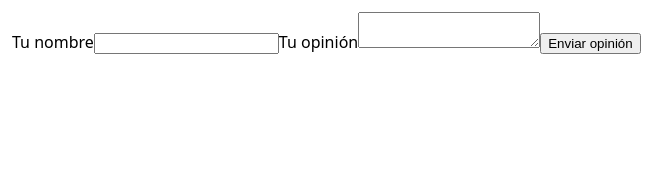
Test: FormularioOpinion › no envia nada si la opinion esta vacia y lo avisa
Click the button "Enviar opinión".
click(590, 44)  # box [540,33,641,54]
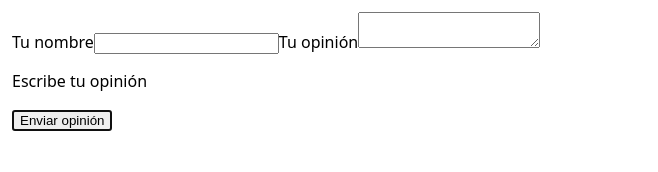
Now the message reads "Escribe tu opinión", box [12,70,147,92]
